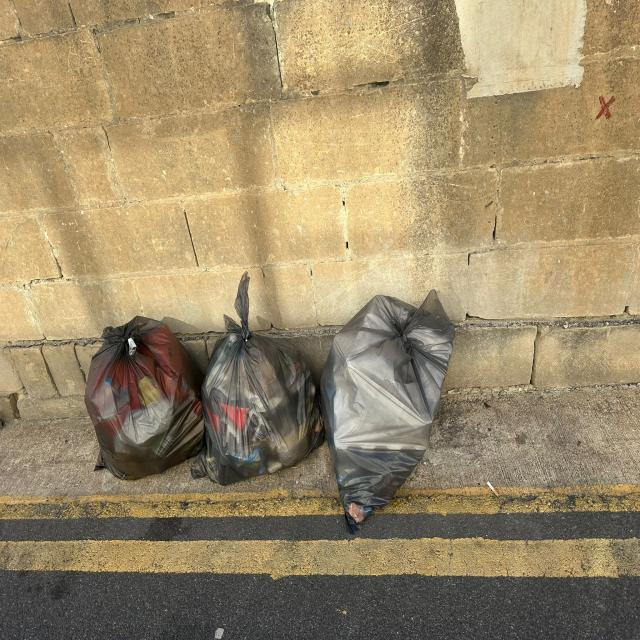black_bag: (320, 289, 455, 531), (199, 270, 329, 488), (83, 316, 205, 479)
